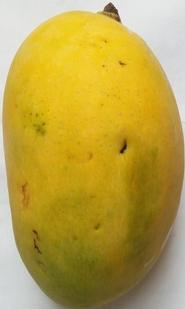PartiallyRipe: (0, 1, 185, 309)
